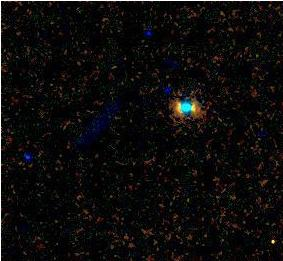star: (133, 19, 163, 49)
